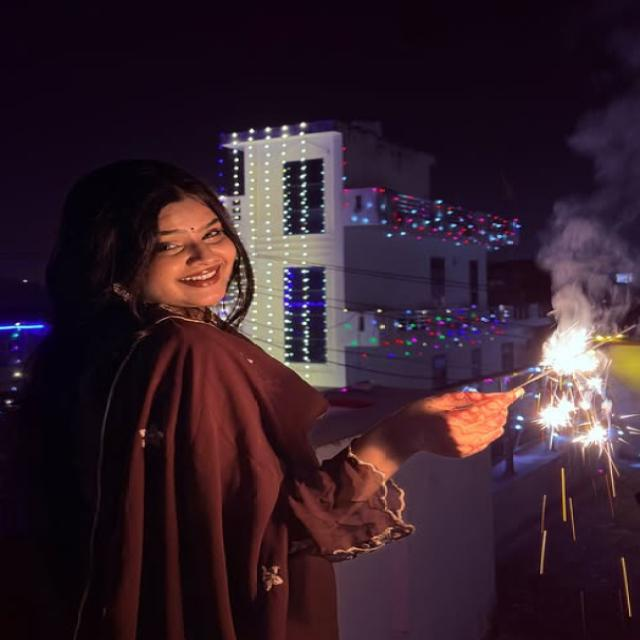fire: (539, 321, 612, 379), (531, 379, 581, 450), (571, 411, 608, 467)
